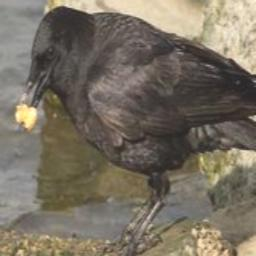Crow: (15, 2, 256, 256)
